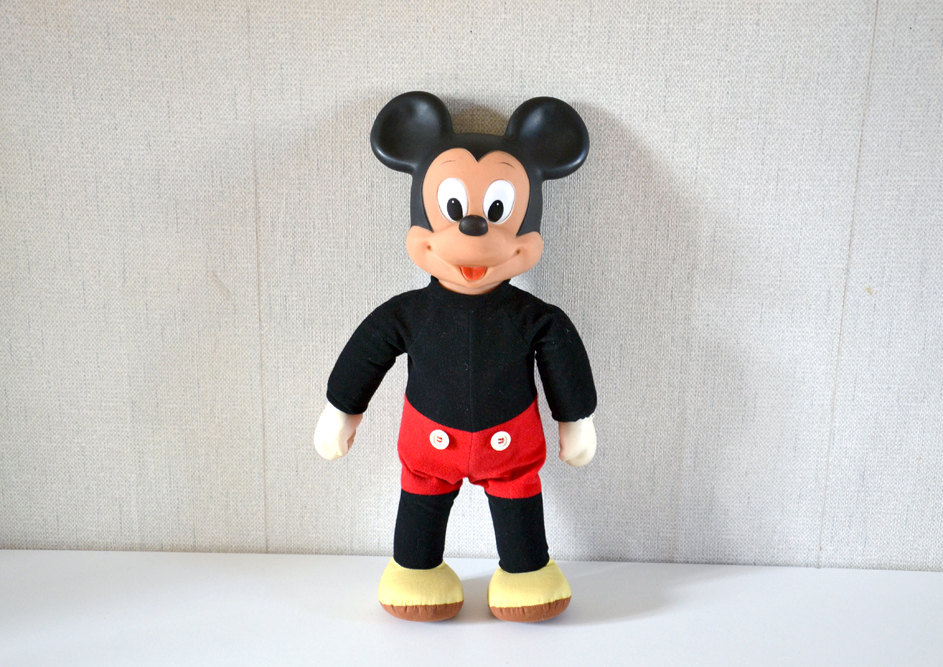Mickey: (366, 90, 592, 297)
